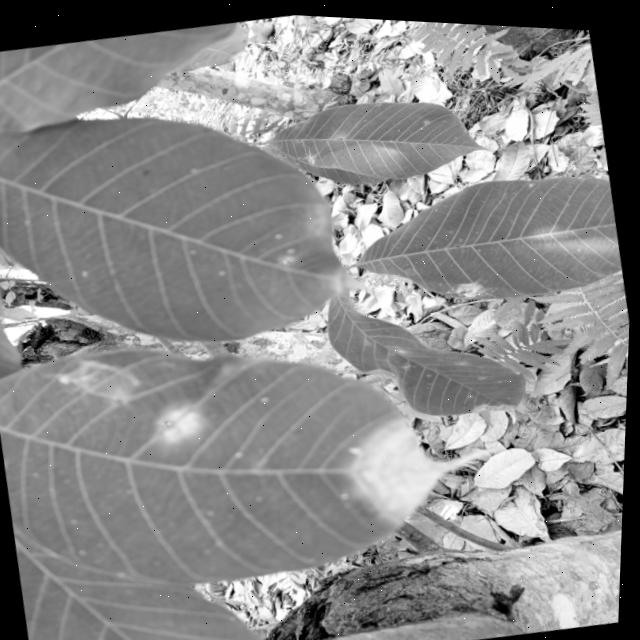Leaf-Blight: (345, 399, 504, 531), (154, 399, 207, 444)
